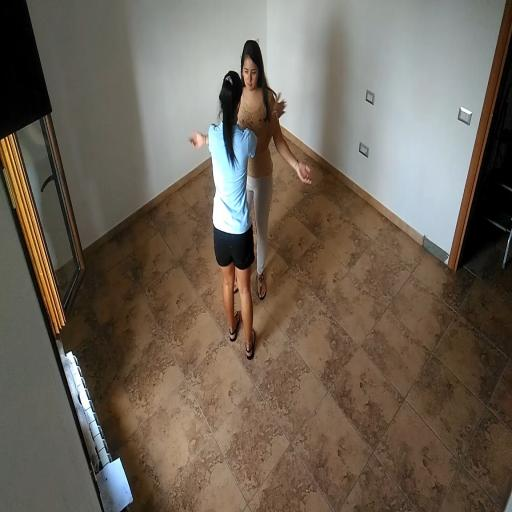nao-violencia: (176, 16, 323, 370)
